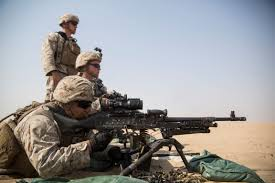gun: (48, 93, 248, 167)
